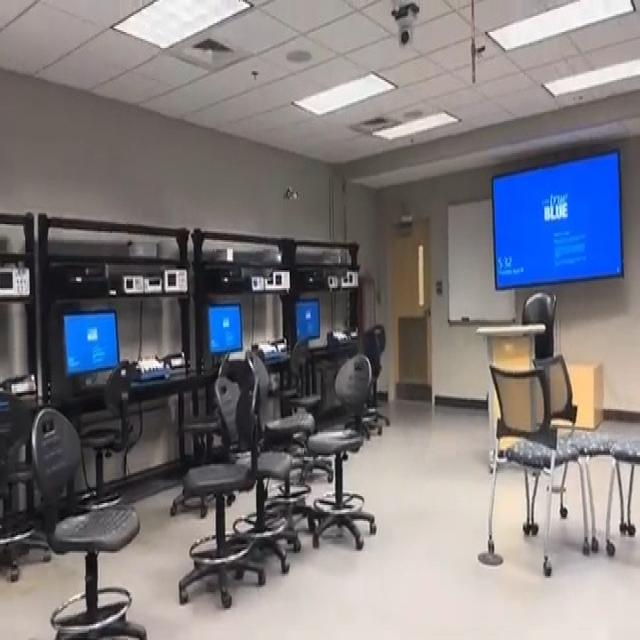drone: (279, 172, 303, 214)
